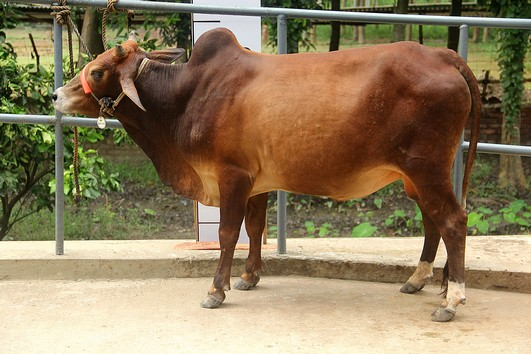cow: (45, 25, 484, 323)
